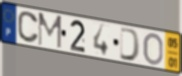2: (70, 19, 87, 54)
4: (92, 23, 111, 58)
C: (16, 11, 40, 45)
D: (119, 26, 142, 63)
M: (36, 11, 63, 51)
O: (143, 32, 165, 67)
